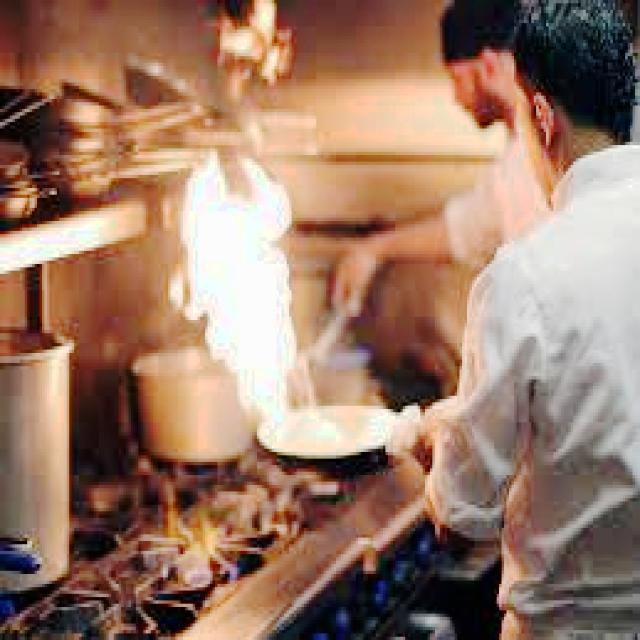api: (159, 156, 350, 440)
